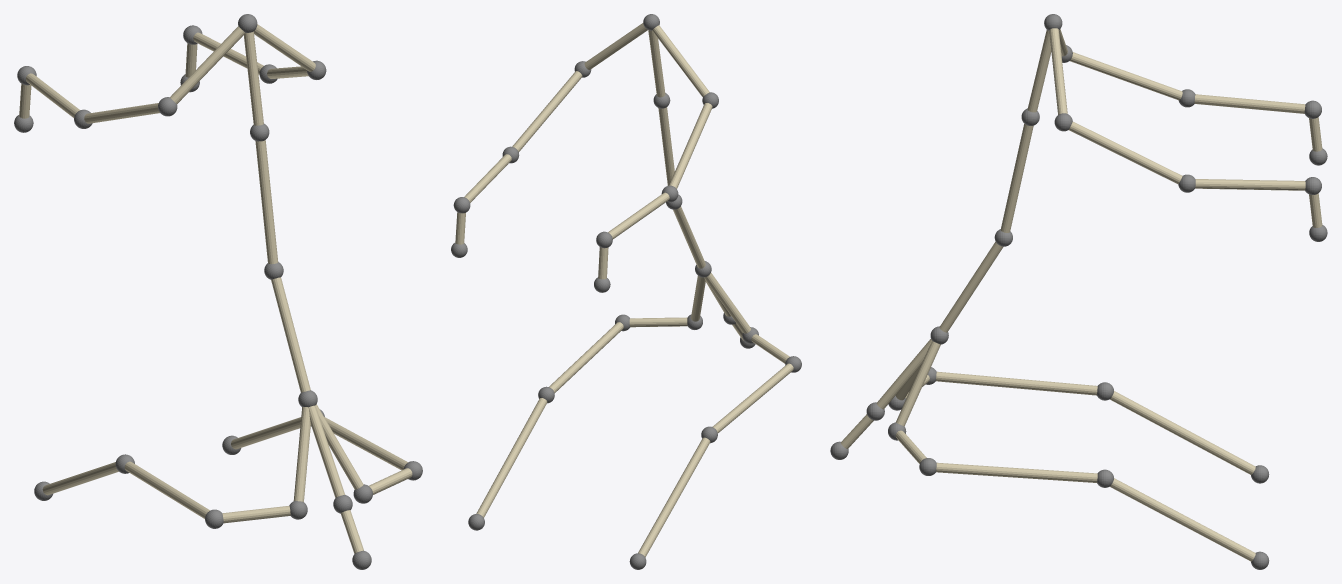
3 views of the same model, side by side, from view 1: azimuth 30°, elevation 25°; view 2: azimuth 150°, elevation 25°; view 3: azimuth 270°, elevation 25° (orthographic). The views are drawn at different scales.
Parts seen in each view (by area): view 1: world; view 2: world; view 3: world.
Boxes of the visible parts, x1,y1,x2,y2 form: world: (14,14,422,569); world: (451,14,801,569); world: (830,14,1327,569).
Bounding box in the file's own units: 0.3826 × 0.9218 × 0.8127.
